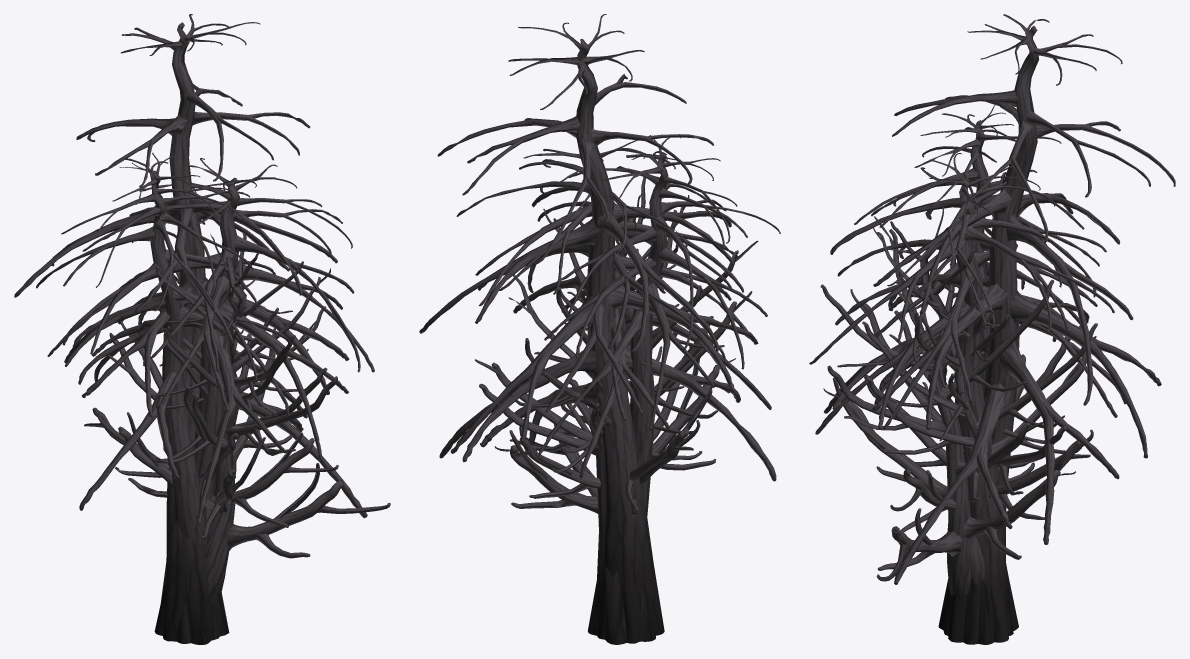
The model's file is MegaDead.glb.
3 renders of one model, left to right at view 1: azimuth 30°, elevation 25°; view 2: azimuth 150°, elevation 25°; view 3: azimuth 270°, elevation 25°, orthographic. The views are drawn at different scales.
Parts seen in each view (by area): view 1: DeadTree_5, DeadTree_4, DeadTree_2, DeadTree_3, DeadTree_1; view 2: DeadTree_5, DeadTree_4, DeadTree_3, DeadTree_2, DeadTree_1; view 3: DeadTree_5, DeadTree_4, DeadTree_2, DeadTree_1, DeadTree_3.
Boxes of the visible parts, <box> form: DeadTree_5: <box>14,14,367,644</box>; DeadTree_4: <box>62,158,374,643</box>; DeadTree_2: <box>118,232,390,601</box>; DeadTree_3: <box>36,152,289,548</box>; DeadTree_1: <box>84,272,338,535</box>; DeadTree_5: <box>419,14,776,643</box>; DeadTree_4: <box>456,140,771,644</box>; DeadTree_3: <box>532,135,780,516</box>; DeadTree_2: <box>475,177,758,516</box>; DeadTree_1: <box>479,248,713,512</box>; DeadTree_5: <box>830,14,1175,644</box>; DeadTree_4: <box>809,153,1126,644</box>; DeadTree_2: <box>820,203,1081,599</box>; DeadTree_1: <box>862,292,1097,583</box>; DeadTree_3: <box>854,105,1117,643</box>.
Size of the model in its own units: 8.57 by 16.44 by 8.93.
Materials: 1 (1 with a texture image).
